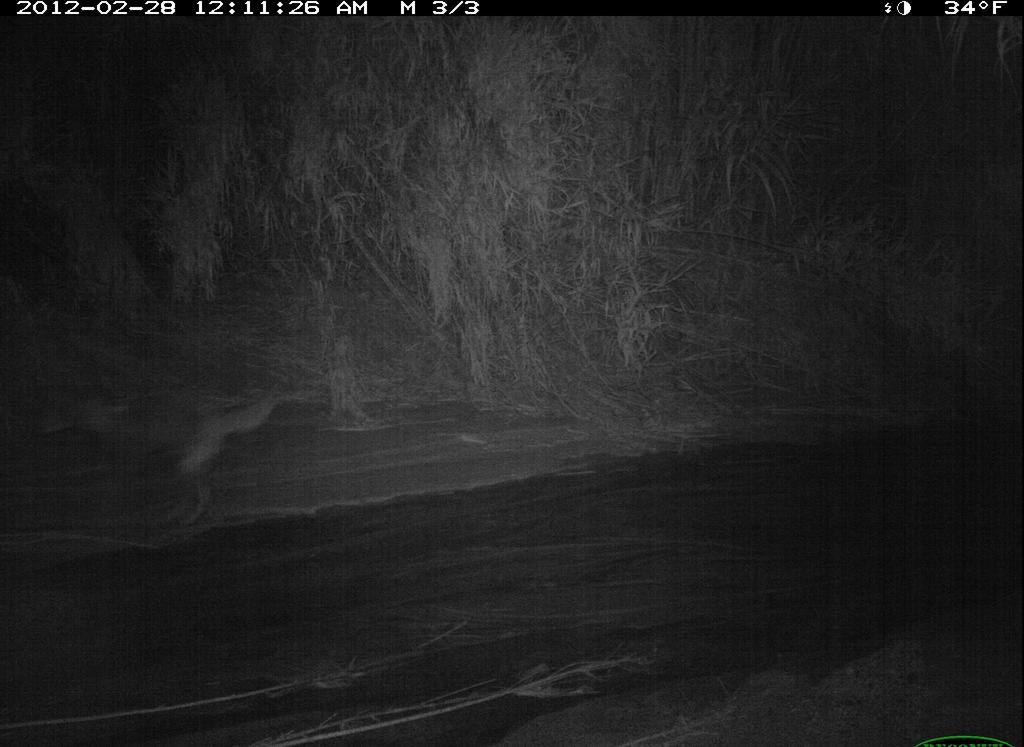coyote: (62, 367, 340, 553)
